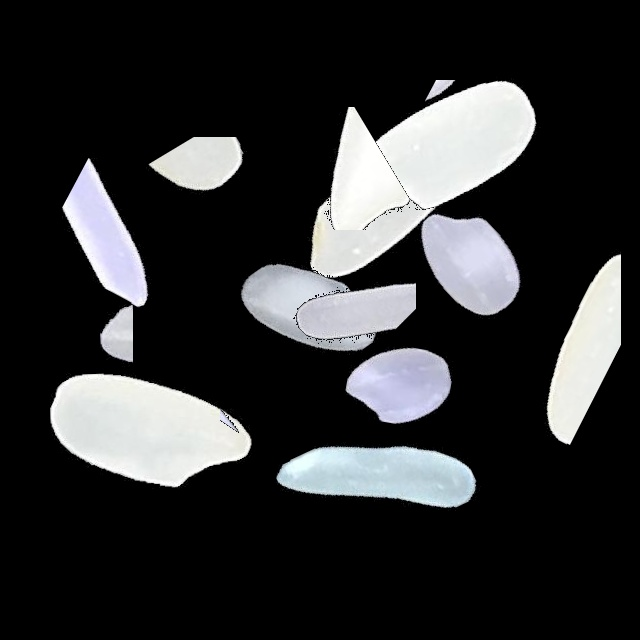Broken: (372, 148, 622, 320), (252, 148, 416, 398), (12, 158, 262, 321), (487, 201, 621, 451), (194, 107, 444, 230), (220, 266, 327, 516), (79, 137, 329, 227), (45, 206, 133, 456), (335, 80, 585, 164)
Full: (261, 78, 511, 328), (182, 185, 432, 435), (27, 306, 277, 556), (250, 356, 500, 606), (274, 261, 524, 511), (322, 24, 572, 274)
